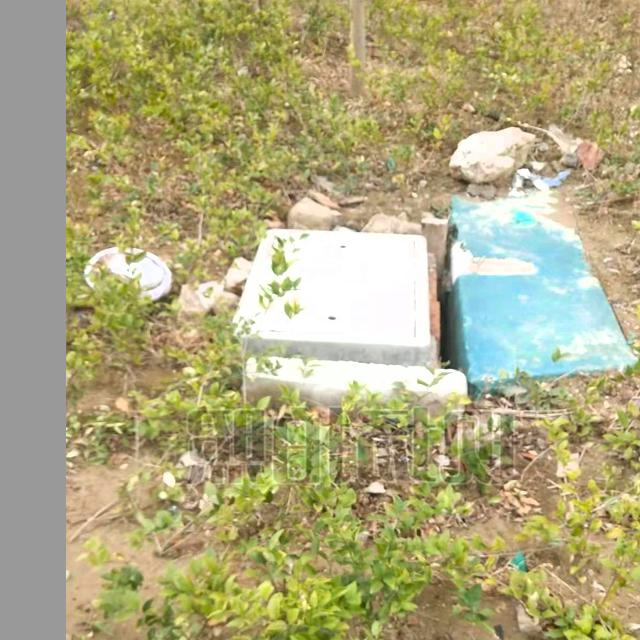circle: (219, 216, 471, 395)
